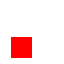square: (11, 37, 31, 57)
